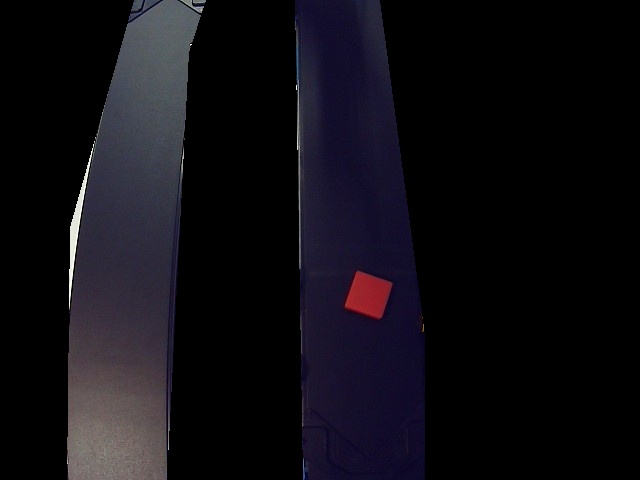Red_Square: (340, 271, 393, 319)
